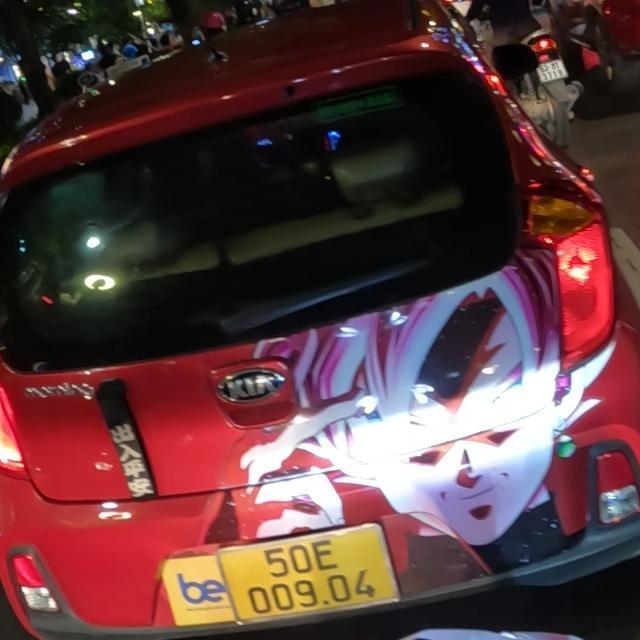car: (1, 16, 640, 634)
plate: (213, 526, 404, 622)
